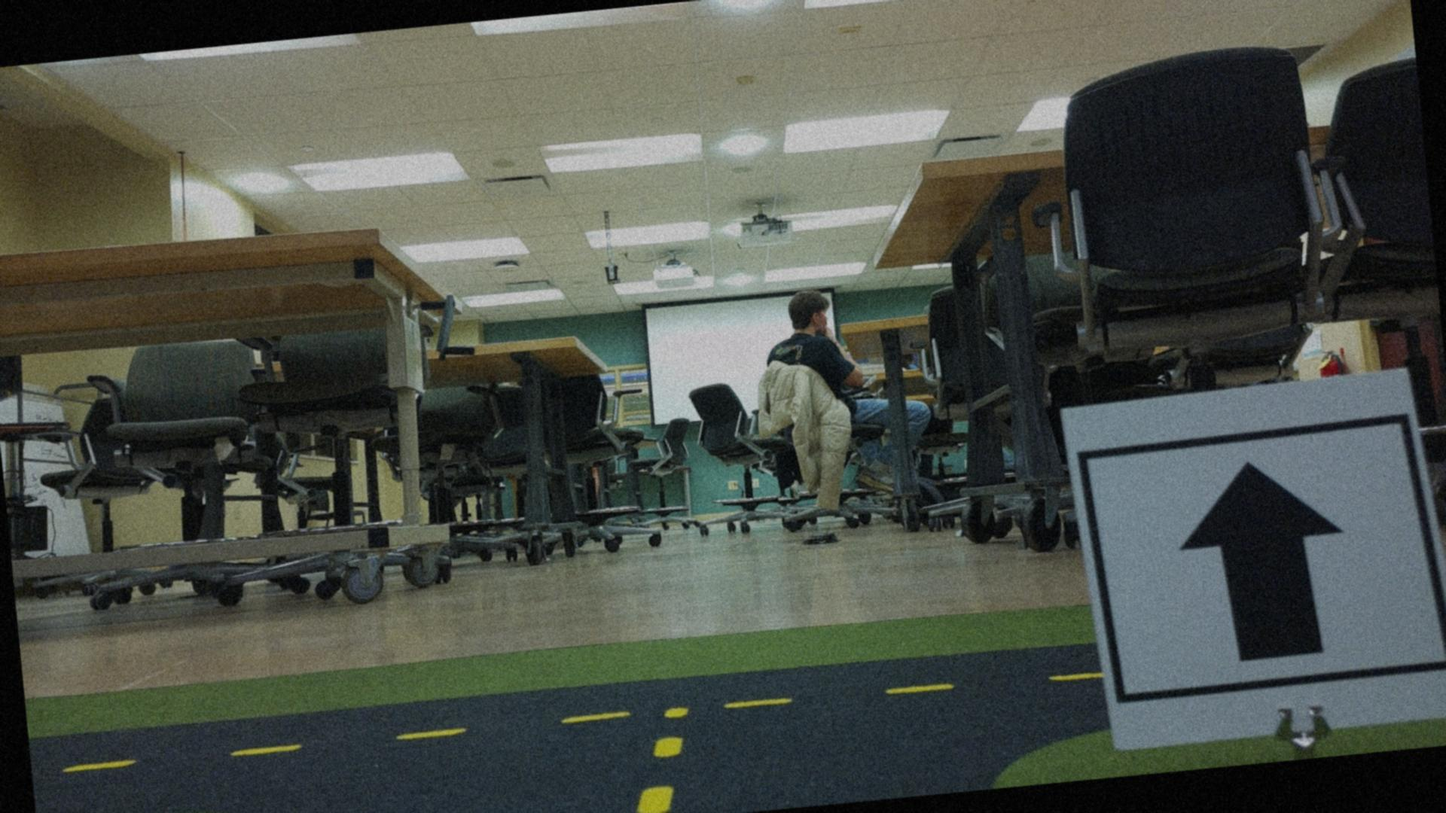gostraight: (1082, 371, 1443, 747)
yellowline: (31, 666, 1103, 781), (626, 700, 699, 812)
